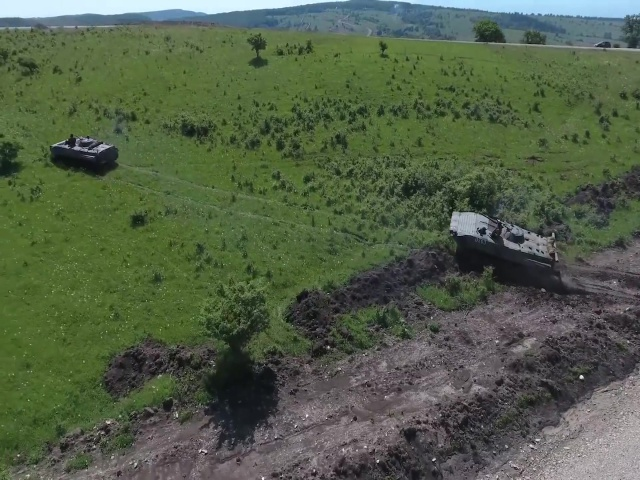vehicle: (447, 206, 559, 275), (51, 135, 118, 174)
